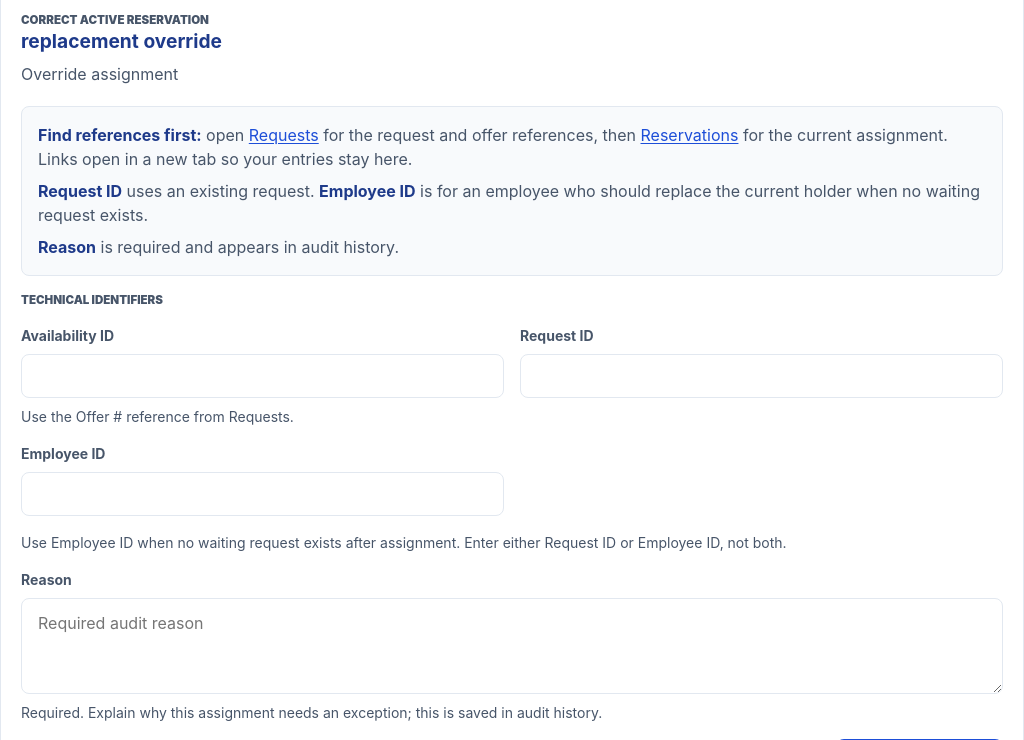
Test case: AdminOverrideForm › requires exactly one replacement selector
Type "4" into the number field named "replacement-availability-id" at point(262, 376), box [21, 354, 504, 398]
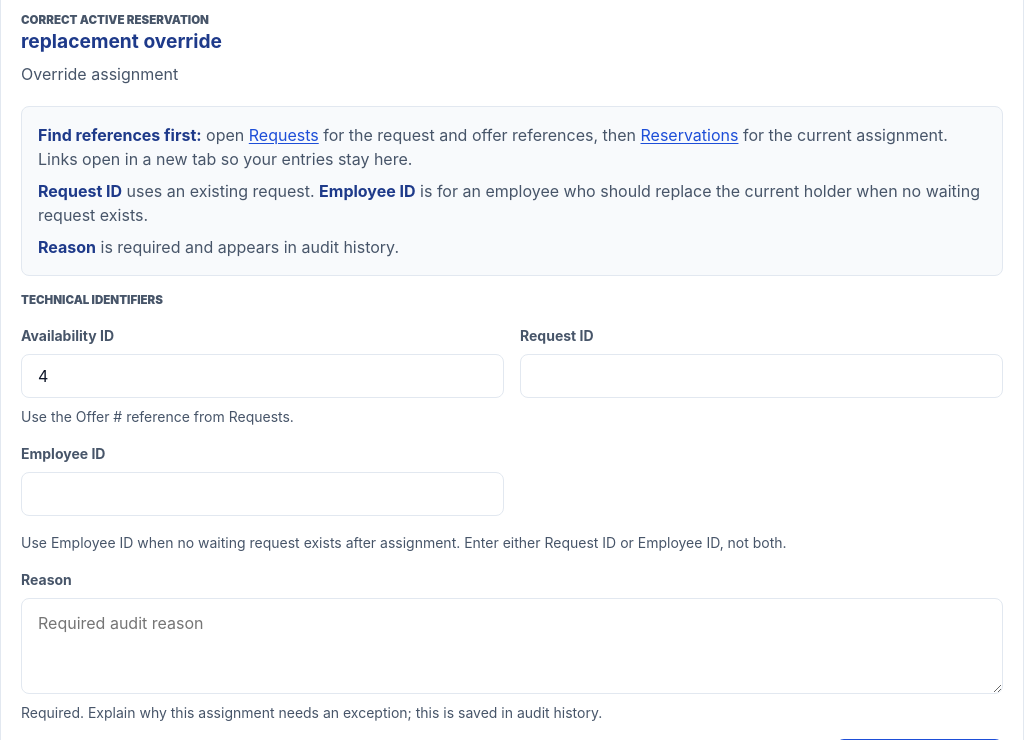
Type "5" into the number field named "replacement-application-id" at point(762, 376), box [520, 354, 1003, 398]
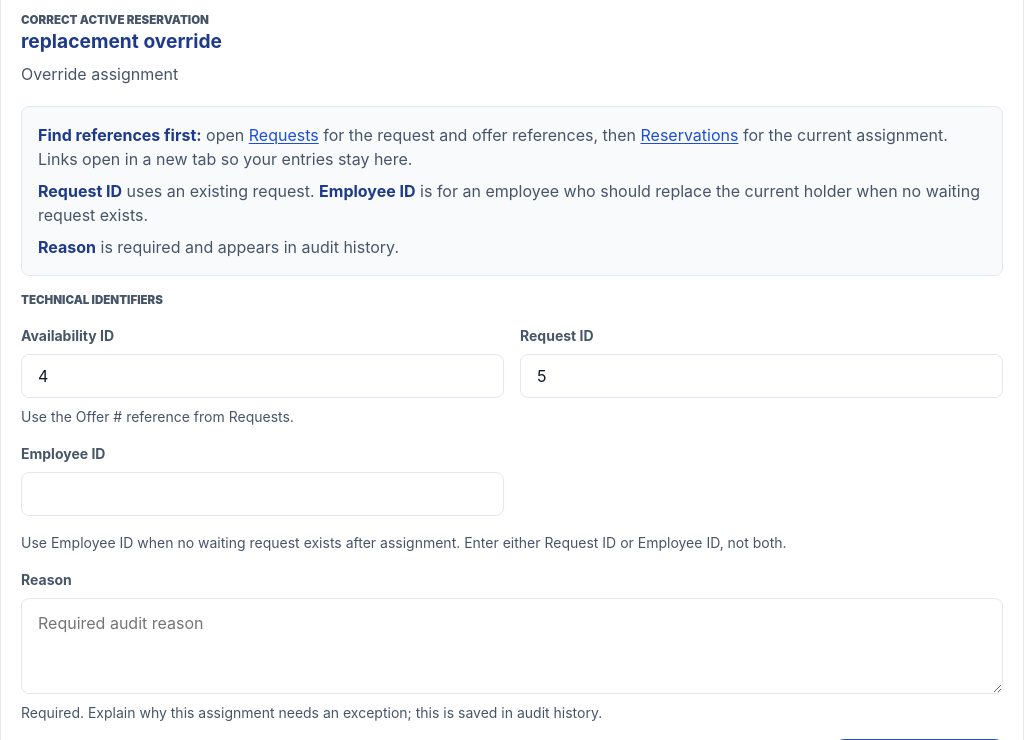
Type "9" into the number field named "replacement-applicant-id" at point(262, 494), box [21, 472, 504, 516]
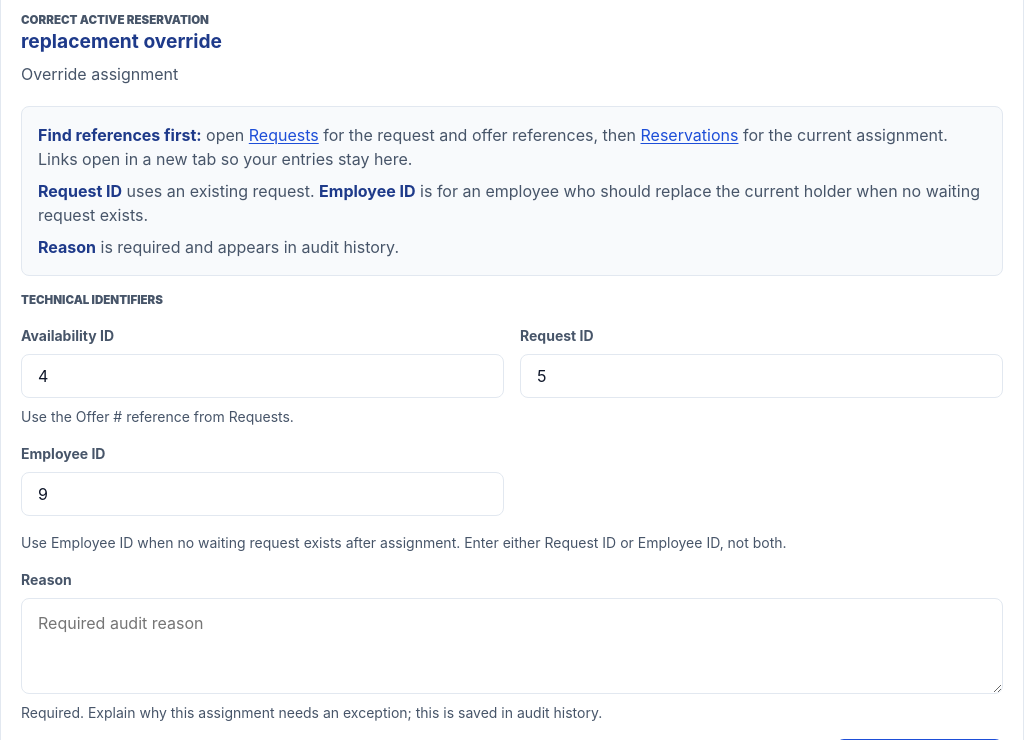
Type "Replacement reason" into the text box named "replacement-reason" at point(512, 646), box [21, 598, 1003, 694]
(page scrolled)
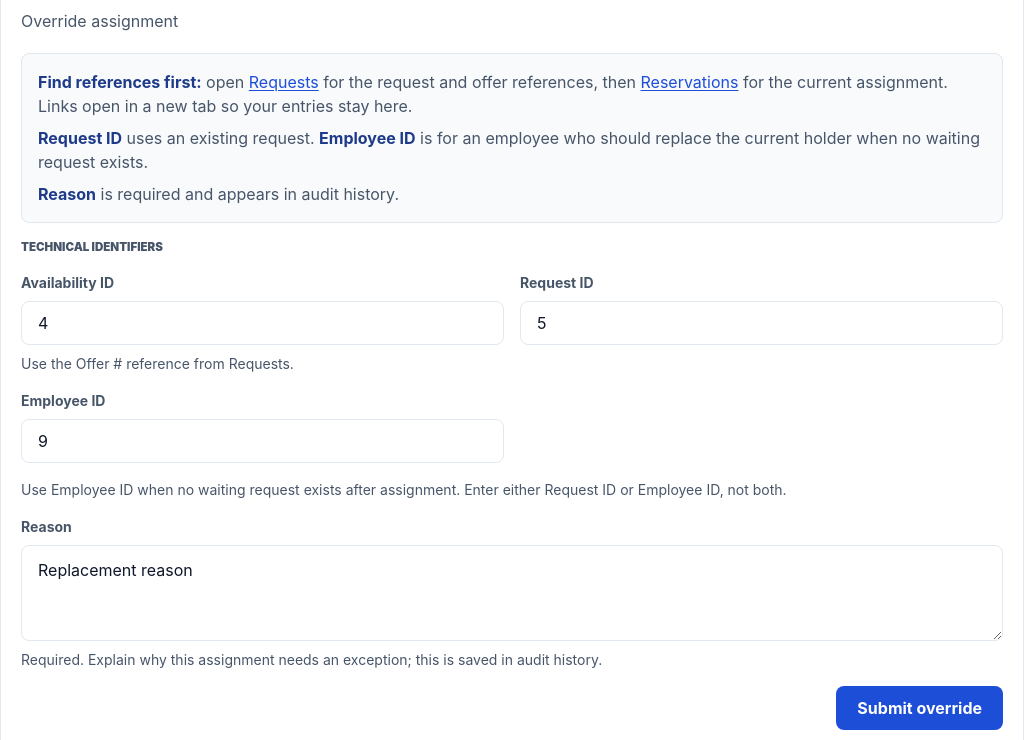
Submit the form
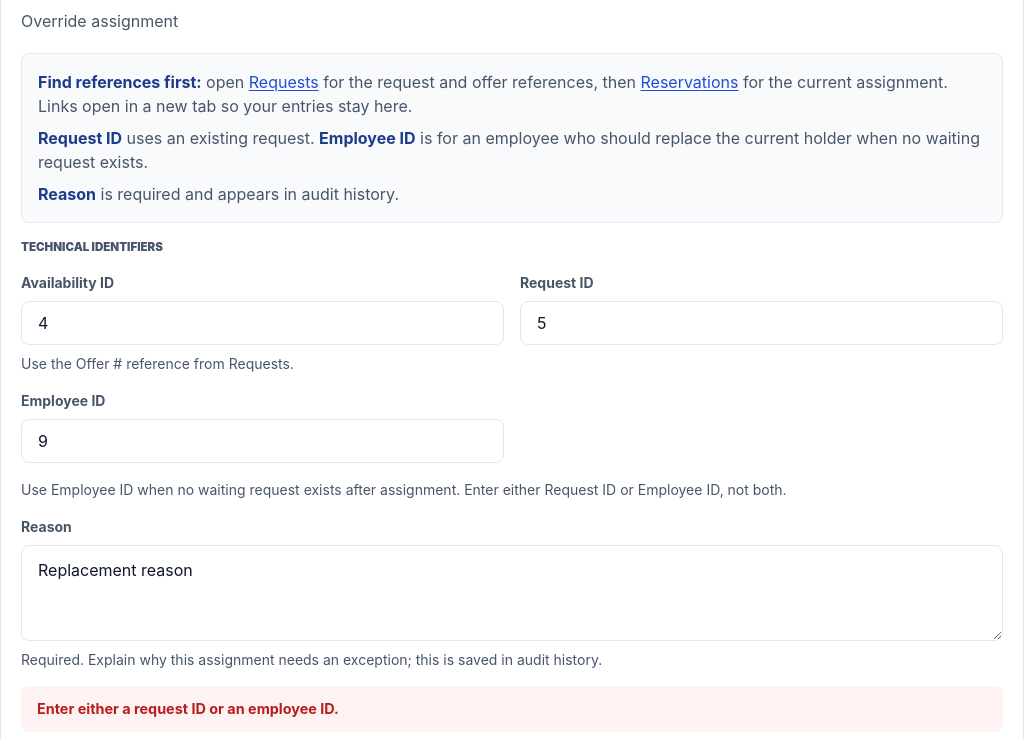
Check: the text "Enter either a request ID or an employee ID." is shown, box [21, 686, 1003, 732]
